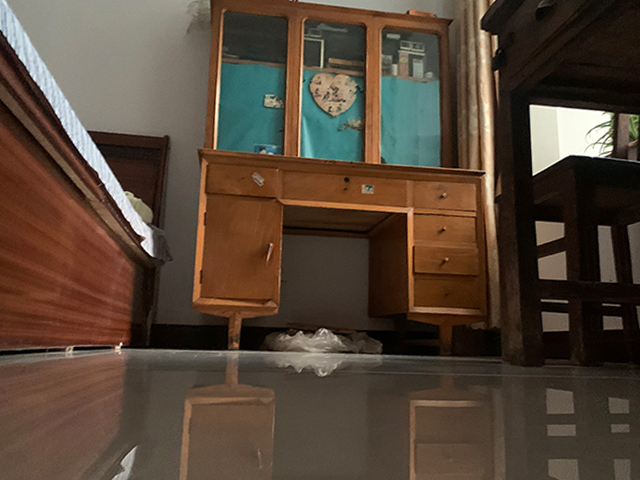bed: (1, 1, 171, 355)
cabinet: (190, 147, 487, 355)
curtain: (453, 1, 503, 330)
stool: (491, 152, 640, 368)
